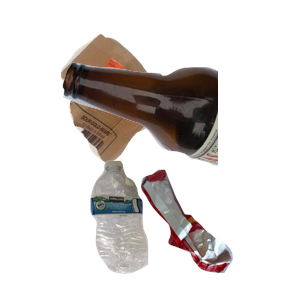cardboard: (58, 31, 222, 188)
glass: (60, 59, 300, 217)
plastic: (88, 158, 229, 300)
trash: (139, 167, 300, 300)
